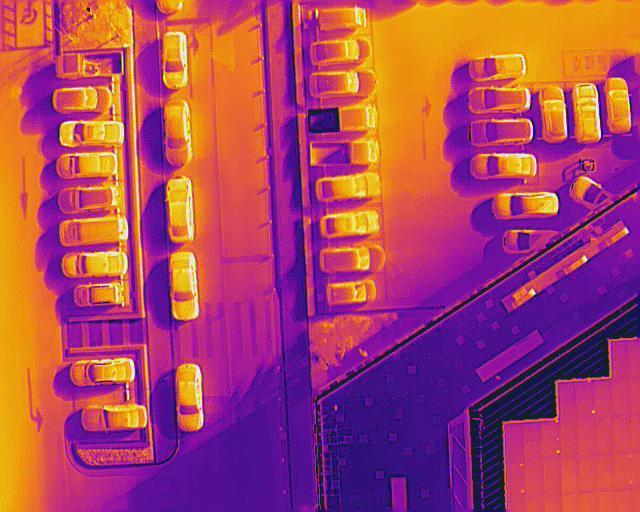Cell-Multi: (506, 458, 526, 496), (542, 421, 561, 459), (614, 453, 633, 491), (577, 381, 595, 419)
No-Anomaly: (542, 456, 562, 496), (558, 381, 578, 419), (577, 417, 596, 456), (525, 457, 544, 496), (595, 418, 614, 455), (560, 419, 579, 456), (561, 455, 579, 494), (613, 379, 631, 417), (578, 455, 596, 493), (595, 379, 612, 419), (613, 416, 631, 453), (524, 422, 542, 459), (612, 341, 629, 380), (597, 454, 614, 492), (505, 423, 523, 458)
